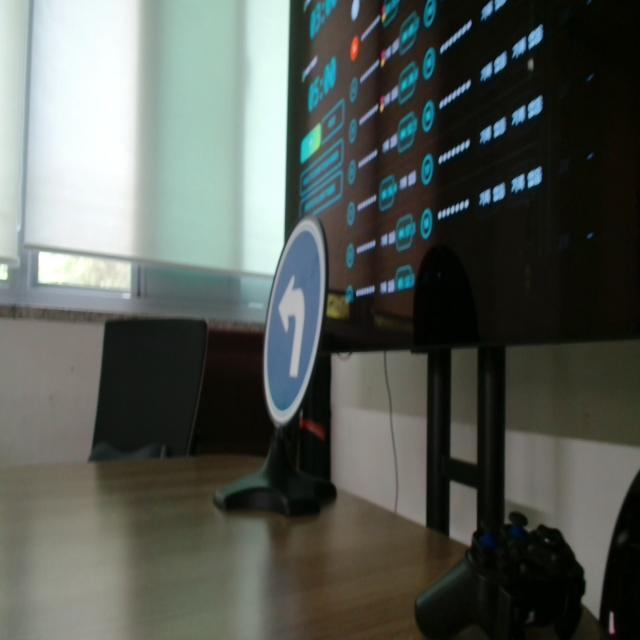left_direction: (258, 213, 336, 424)
